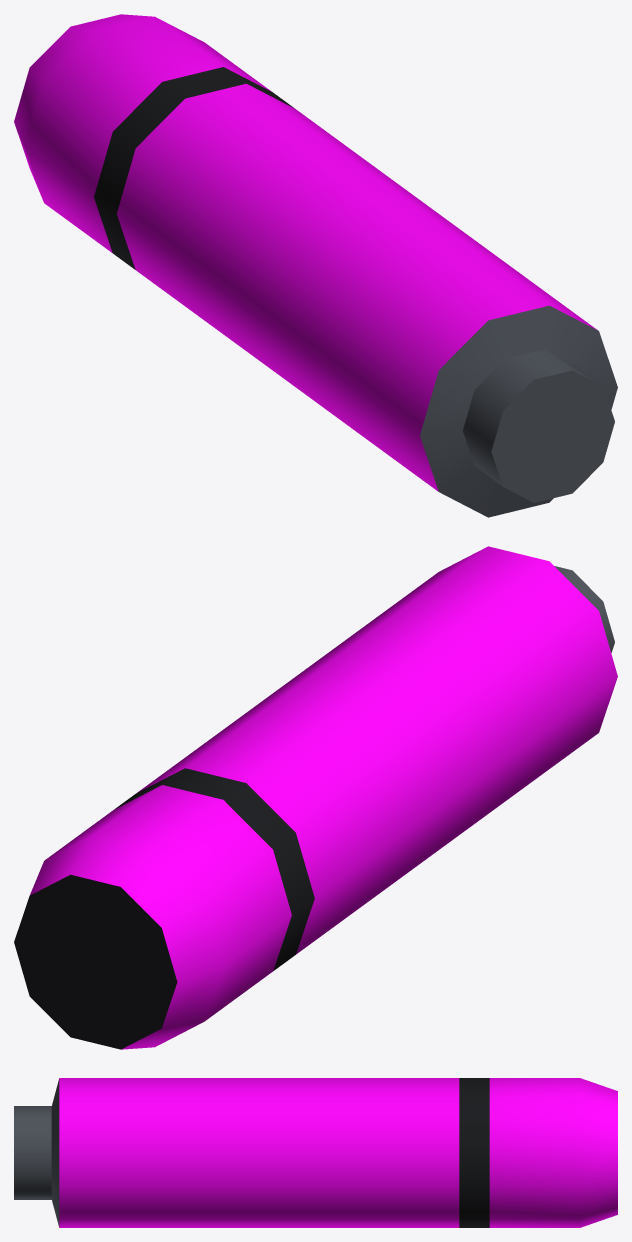
Rendered from att_suppressor.glb.
3 renders of one model, top to bottom at view 1: azimuth 30°, elevation 25°; view 2: azimuth 150°, elevation 25°; view 3: azimuth 270°, elevation 25°, orthographic. The views are drawn at different scales.
Visible parts, largest first — view 1: att_suppressor__body; view 2: att_suppressor__body; view 3: att_suppressor__body.
Part boxes in pixels (bbox=[...]): att_suppressor__body: bbox=[14, 14, 617, 517]; att_suppressor__body: bbox=[14, 546, 617, 1049]; att_suppressor__body: bbox=[14, 1078, 617, 1227].
Bounding box in the file's own units: 0.04 × 0.038 × 0.16.
Materials: 1 (1 with a texture image).
